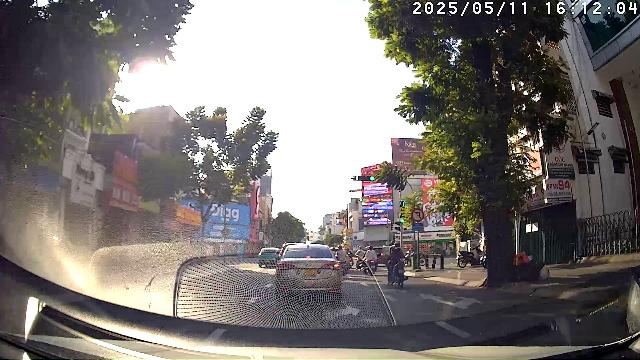123a-cam-re-trai: (412, 208, 424, 222)
